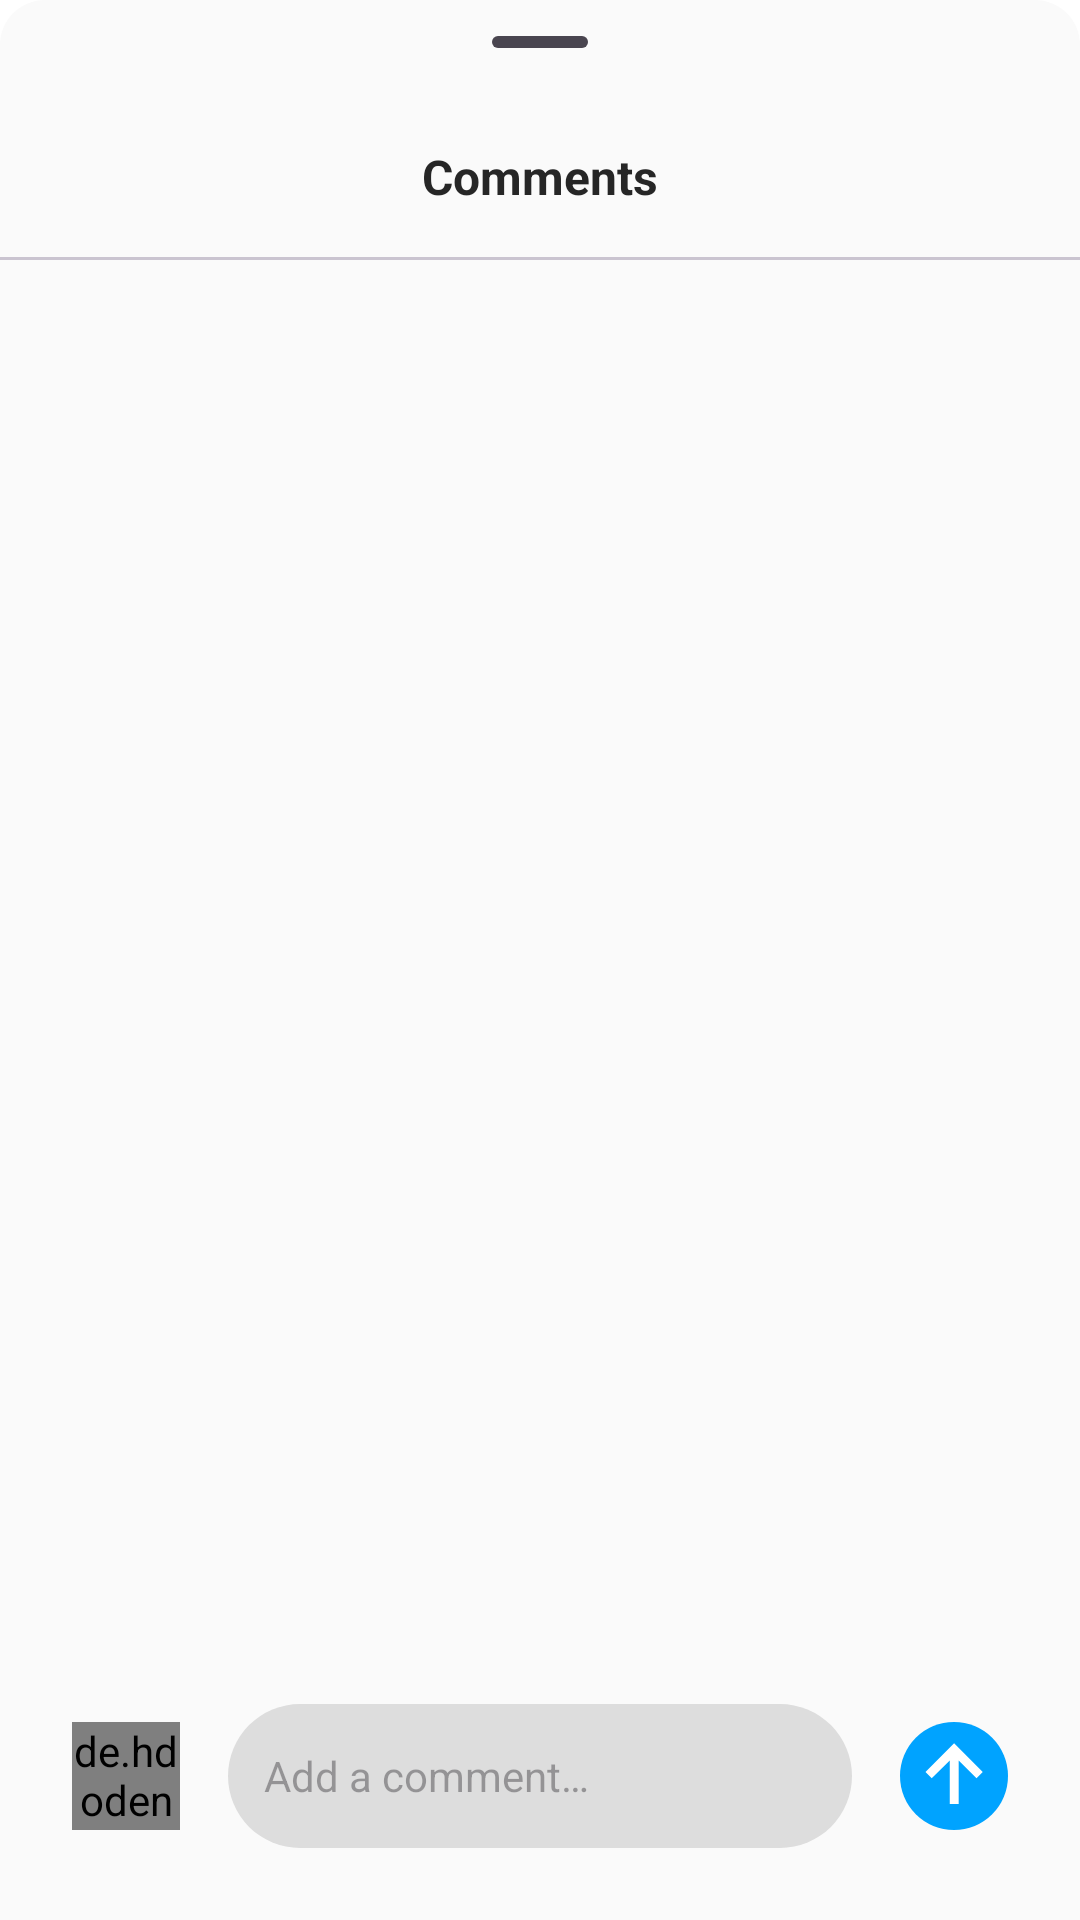

Icons on this 1080 × 1920 Android screen, each with its box as rect(x1, y1, x2, y2):
arrow up: rect(900, 1722, 1008, 1830)
